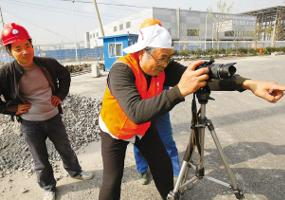person: (99, 24, 285, 200)
